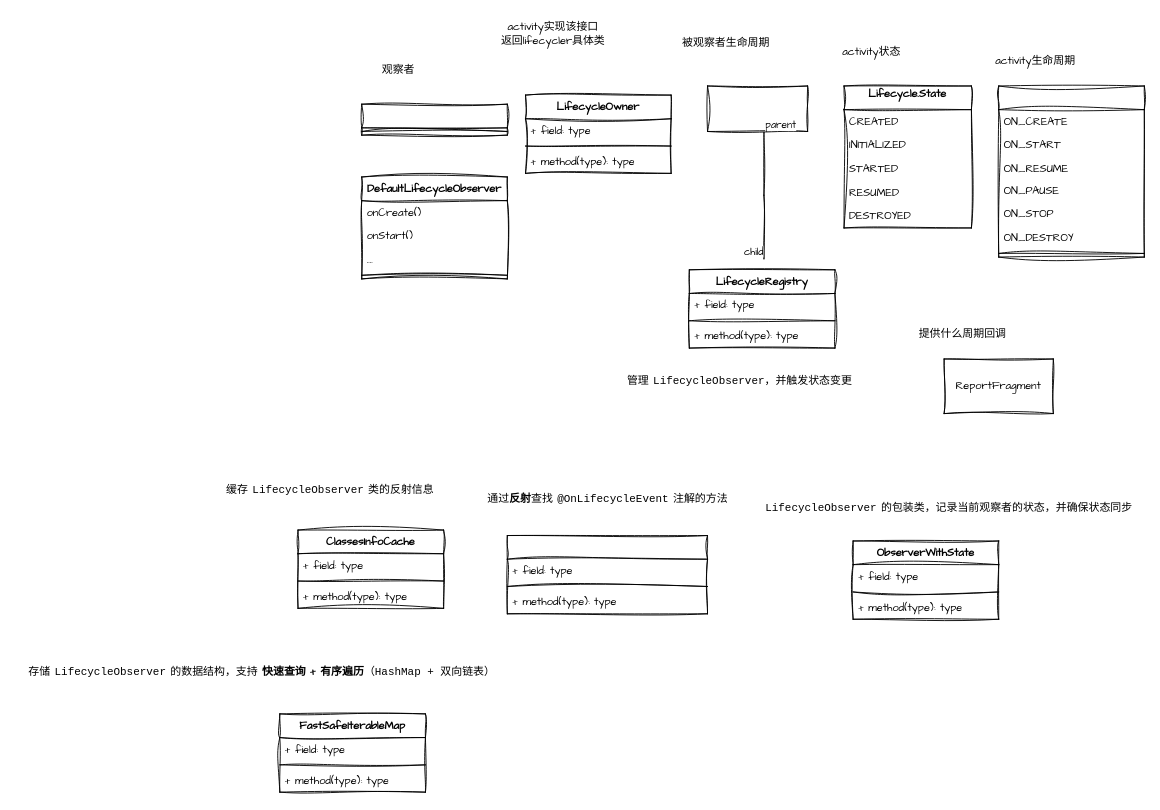
Image size: 1160x810. Some labels were removed from this diagram. Each missing label, with the box of its shape:
Lifecycle.Event: (998, 85, 1144, 257)
LifecycleObserver: (361, 103, 507, 135)
ReflectiveGenericLifecycleObserver: (506, 535, 708, 614)
«interface» LIfecycler: (707, 85, 808, 131)
